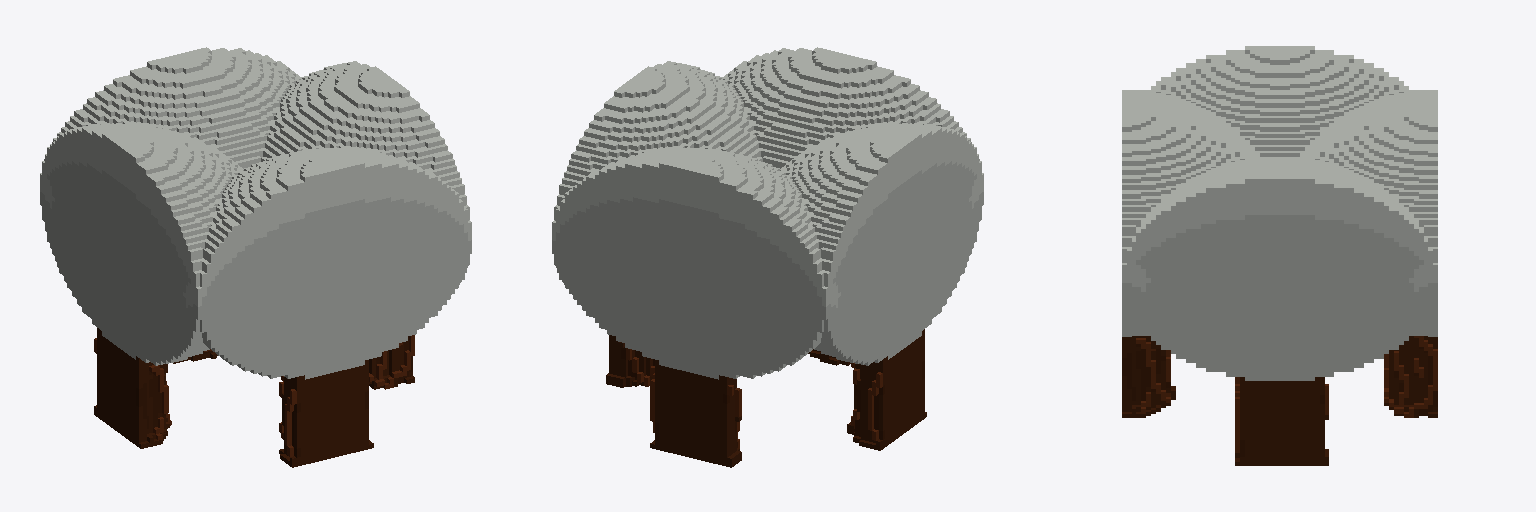
3 renders of one model, left to right at view 1: azimuth 30°, elevation 25°; view 2: azimuth 150°, elevation 25°; view 3: azimuth 270°, elevation 25°, orthographic.
Visible parts, largest first — view 1: object 1; view 2: object 1; view 3: object 1.
Boxes of the visible parts, x1=… form: object 1: x1=40, y1=47, x2=471, y2=467; object 1: x1=552, y1=47, x2=983, y2=467; object 1: x1=1122, y1=46, x2=1437, y2=465.
Size of the model in its own units: 6.4 by 6.4 by 6.4.
1 materials, 1 textured.